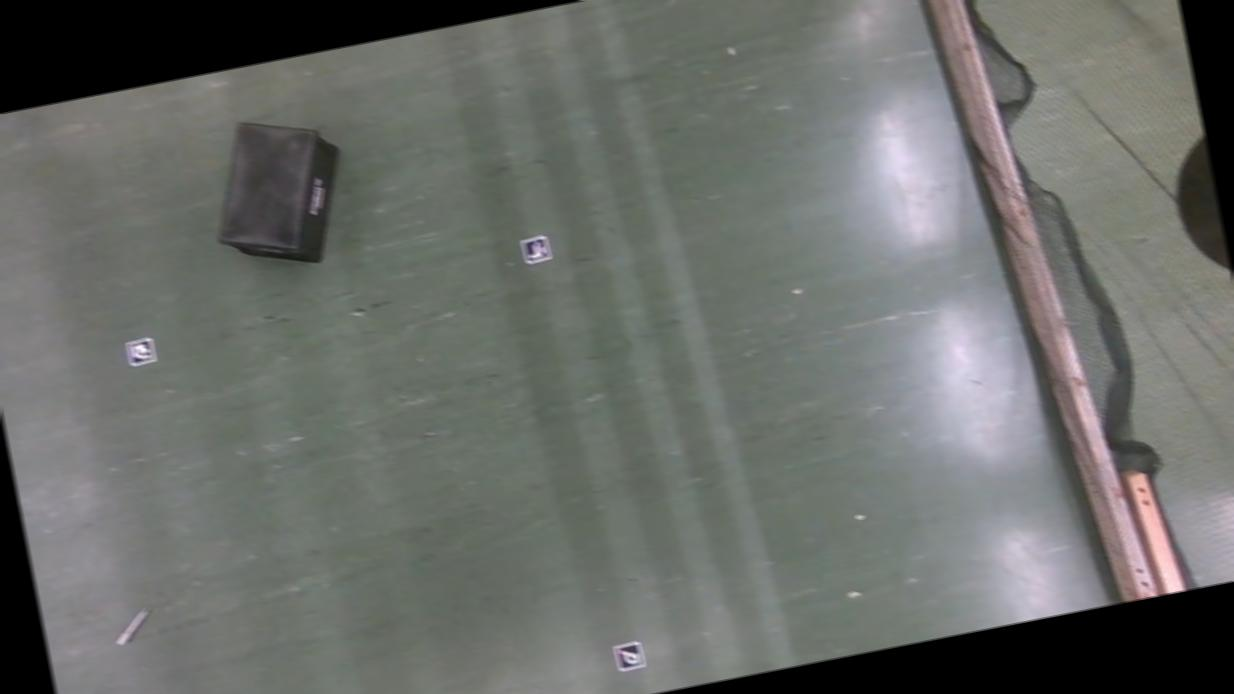probes: (110, 605, 155, 646)
rako: (196, 104, 360, 281)
